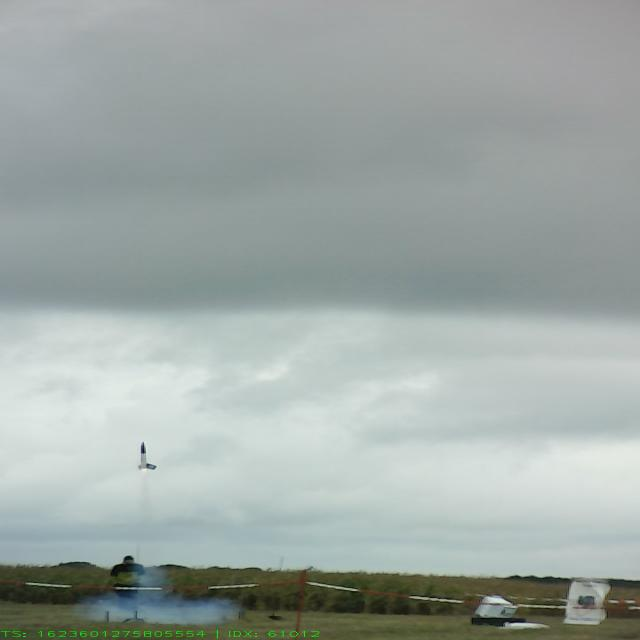Rocket: (136, 441, 157, 471)
